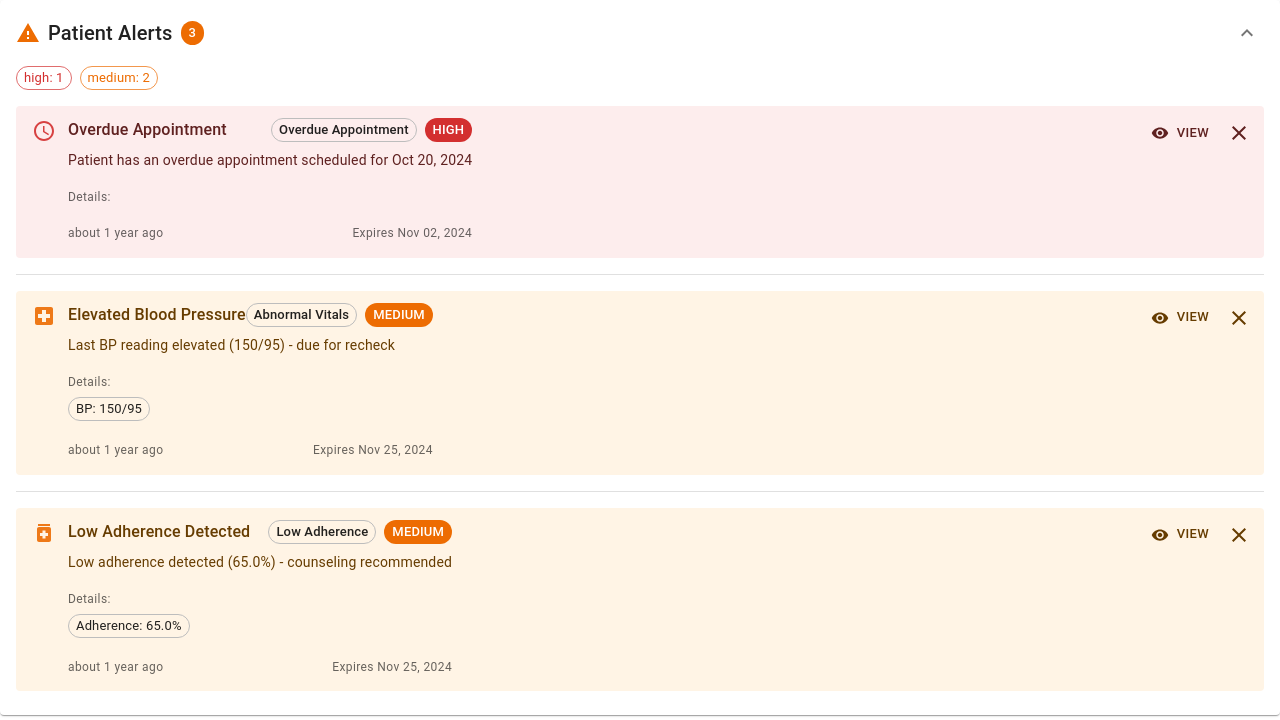
Test: PatientAlertsPanel › shows loading state during dismissal
The image size is (1280, 720).
Note: Click dismiss button
Click the 1st button named "Dismiss alert": (1239, 133) [1222, 116, 1256, 150]
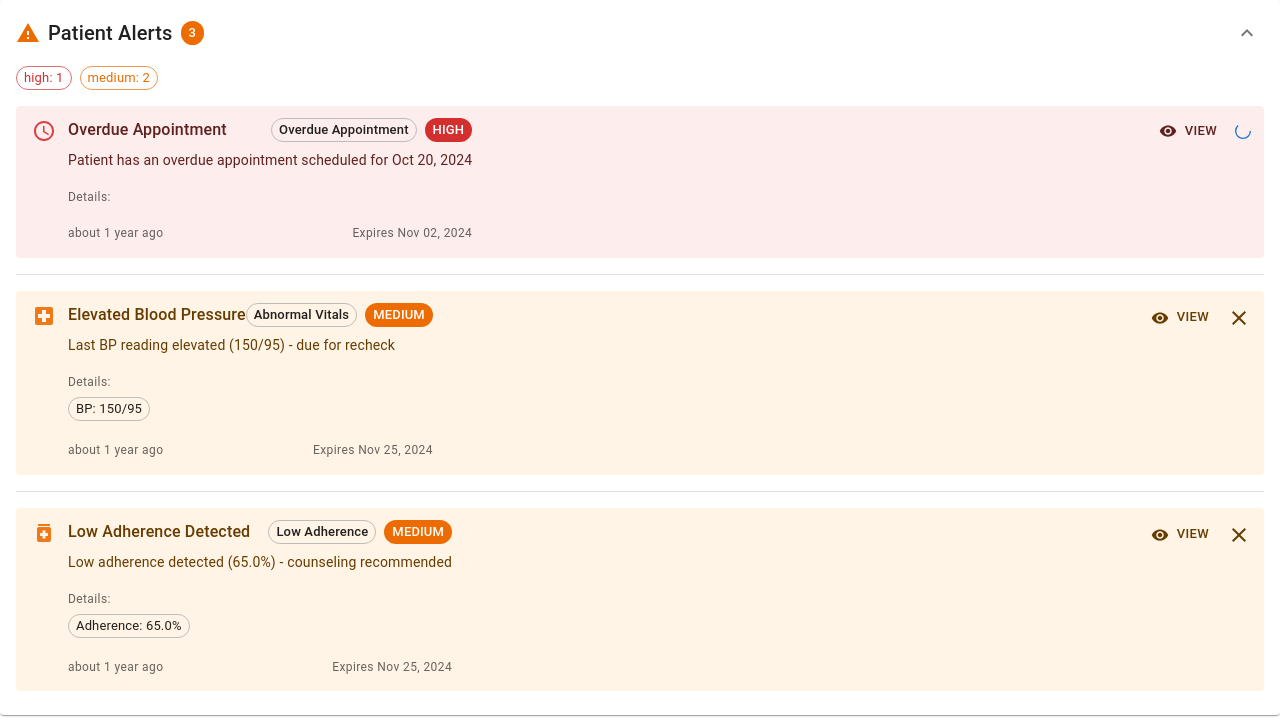
Expected: the progress indicator is shown, [1235, 123, 1251, 139]
